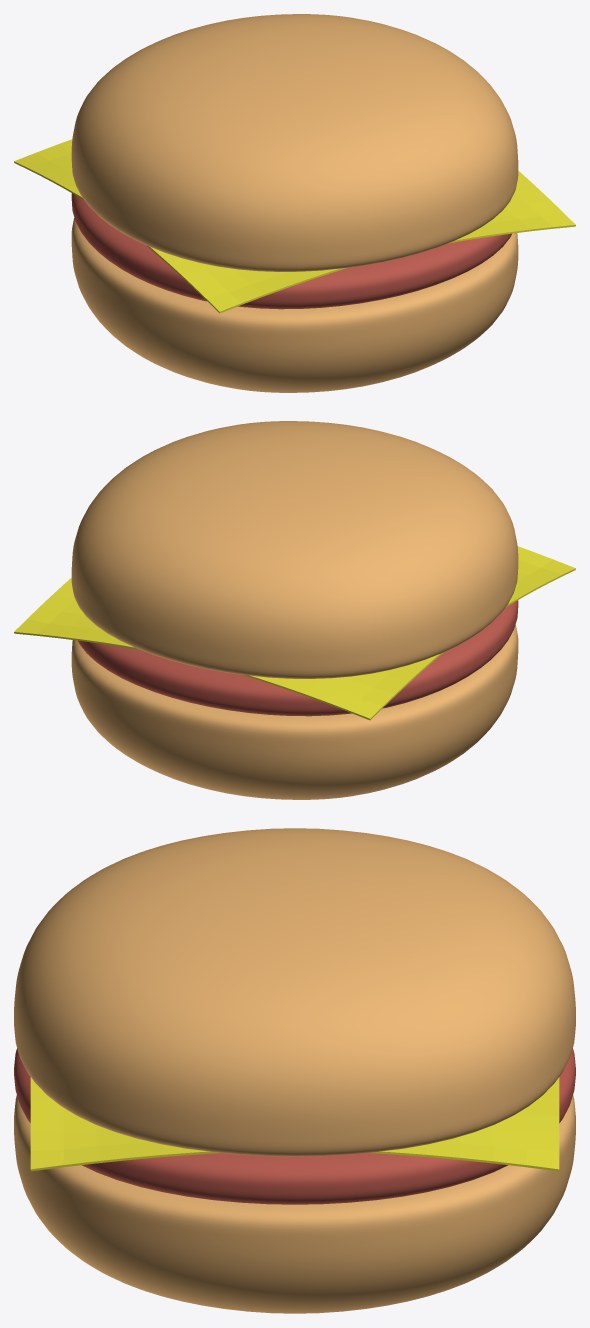
Rendered from hamburger.glb.
3 views of the same model, one above another, from view 1: azimuth 30°, elevation 25°; view 2: azimuth 150°, elevation 25°; view 3: azimuth 270°, elevation 25° (orthographic). The views are drawn at different scales.
Parts seen in each view (by area): view 1: Cube.003, Cube, Cube.002, Plane; view 2: Cube.003, Cube, Cube.002, Plane; view 3: Cube.003, Cube, Cube.002, Plane.
Part boxes in pixels (box(x1,y1,x2,y2)): Cube.003: box(71, 14, 518, 271); Cube: box(71, 218, 518, 392); Cube.002: box(71, 193, 511, 309); Plane: box(14, 139, 575, 313); Cube.003: box(71, 421, 518, 678); Cube: box(71, 625, 518, 799); Cube.002: box(78, 600, 518, 716); Plane: box(14, 546, 575, 720); Cube.003: box(14, 828, 575, 1156); Cube: box(14, 1095, 575, 1313); Cube.002: box(14, 1048, 575, 1204); Plane: box(30, 1077, 559, 1171).
Bounding box in the file's own units: 1.83 × 1.3 × 1.83.
